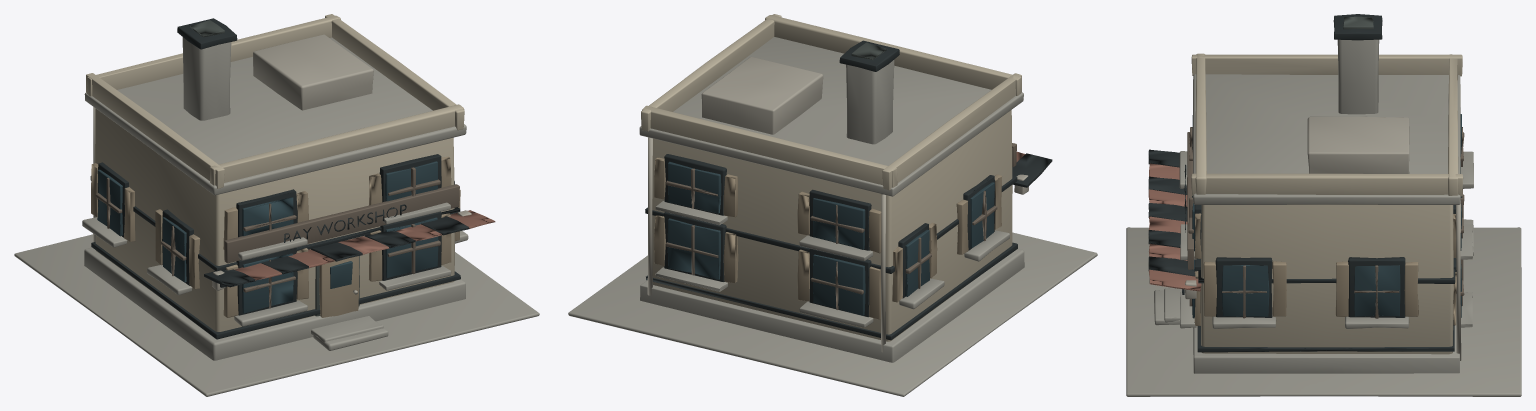
Rendered from district_art_1.glb.
3 renders of one model, left to right at view 1: azimuth 30°, elevation 25°; view 2: azimuth 150°, elevation 25°; view 3: azimuth 270°, elevation 25°, orthographic. The views are drawn at different scales.
Parts seen in each view (by area): view 1: stone, plaster, trim, glass, wood, metal, timber, cloth, dark; view 2: stone, plaster, glass, trim, metal, wood, timber; view 3: stone, plaster, trim, metal, glass, wood, cloth, timber, dark.
Boxes of the visible parts, bbox=[...] form: stone: bbox=[14, 37, 539, 396]; plaster: bbox=[86, 14, 464, 331]; trim: bbox=[90, 18, 469, 339]; glass: bbox=[97, 161, 438, 313]; wood: bbox=[91, 156, 460, 317]; metal: bbox=[93, 34, 471, 294]; timber: bbox=[95, 167, 459, 308]; cloth: bbox=[234, 210, 495, 280]; dark: bbox=[189, 20, 359, 316]; stone: bbox=[568, 37, 1097, 396]; plaster: bbox=[641, 14, 1021, 341]; glass: bbox=[667, 161, 994, 315]; trim: bbox=[645, 40, 1052, 340]; metal: bbox=[647, 57, 1028, 352]; wood: bbox=[654, 157, 1001, 319]; timber: bbox=[666, 143, 1016, 309]; stone: bbox=[1126, 39, 1521, 396]; plaster: bbox=[1191, 53, 1463, 354]; trim: bbox=[1148, 14, 1456, 352]; metal: bbox=[1185, 84, 1461, 360]; glass: bbox=[1192, 114, 1461, 318]; wood: bbox=[1194, 213, 1456, 325]; cloth: bbox=[1148, 163, 1201, 291]; timber: bbox=[1187, 127, 1464, 318]; dark: bbox=[1343, 16, 1373, 29].
Bounding box in the file's own units: 12.5 × 9.29 × 12.5.
